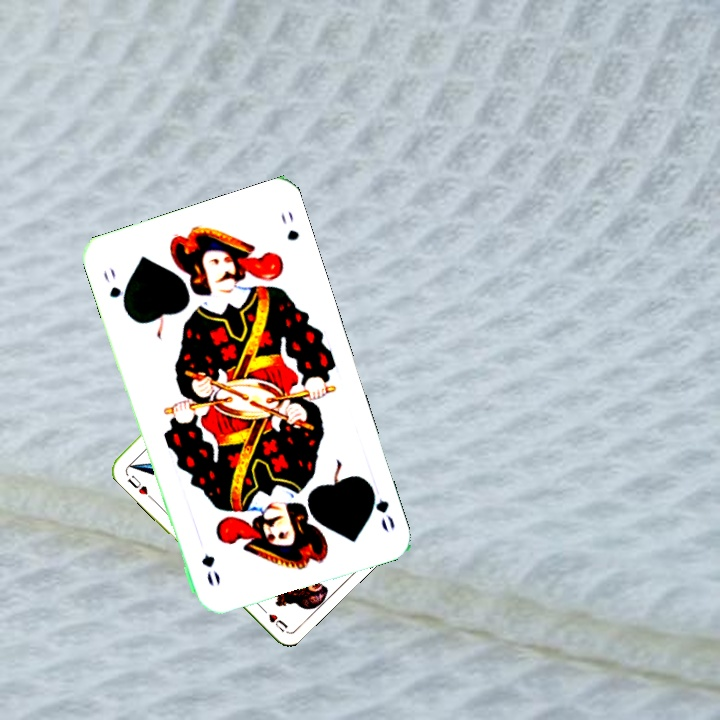GO: (364, 479, 398, 534), (99, 263, 130, 315)
HU: (123, 471, 150, 498)
